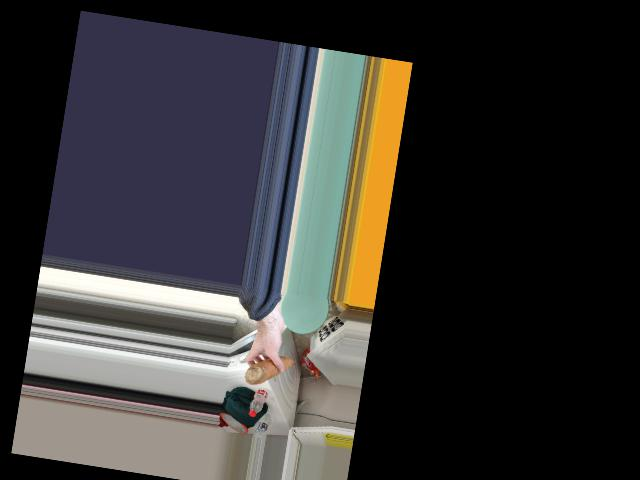sweet_potato: (244, 352, 293, 391)
